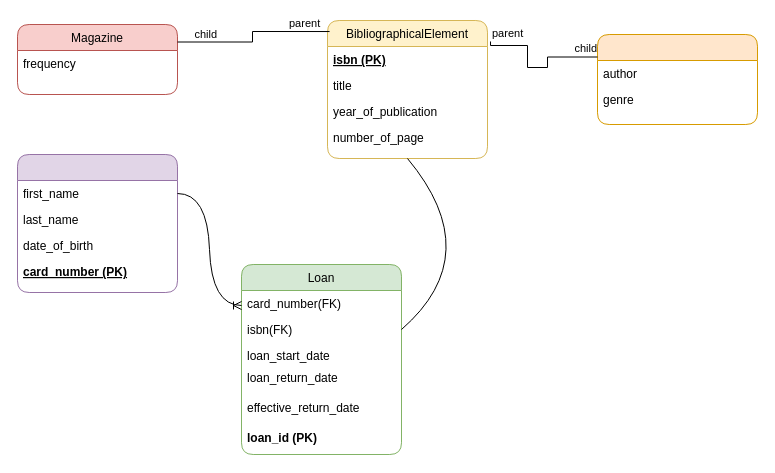
This 775x473 diagram has some shape labels left out. The shapes that lost their labels are listed below. From the top down, each one's box as (x1, y1, x2, y2) in pixels, then its label:
(596, 34, 758, 124): Book
(16, 154, 178, 292): User
